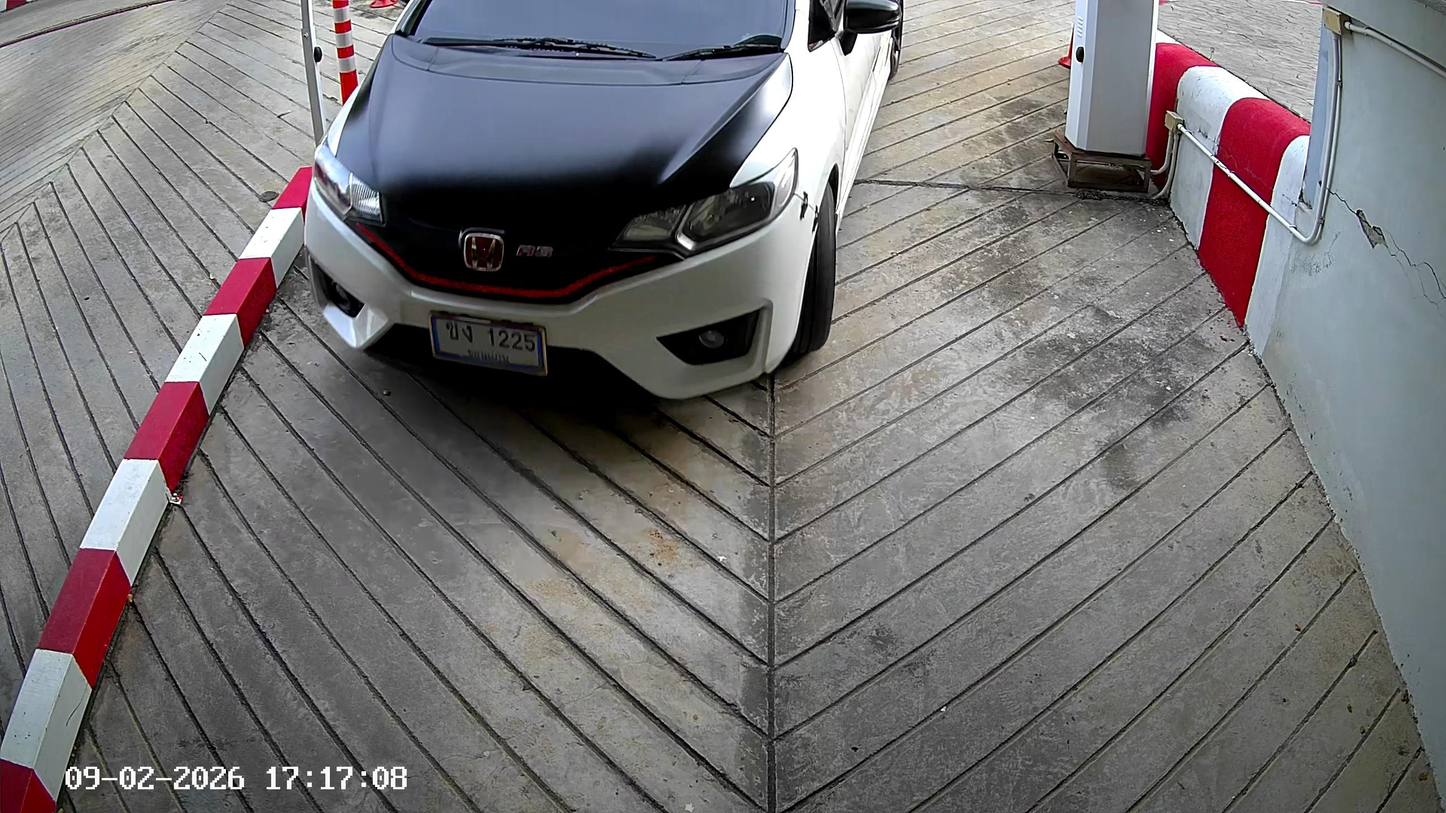car: (304, 4, 905, 406)
license-plate: (426, 304, 549, 379)
